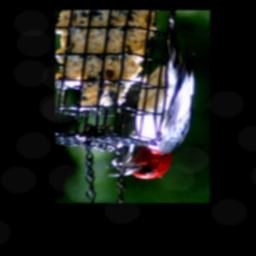Woodpecker: (104, 10, 197, 181)
